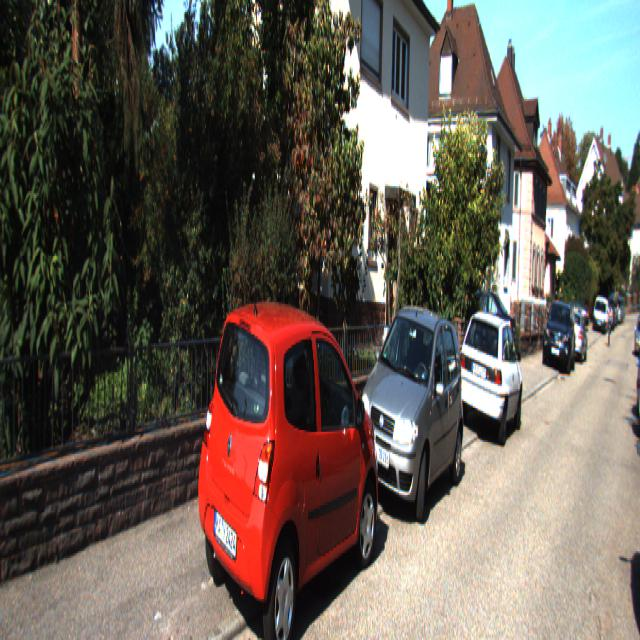Car: (198, 296, 384, 638), (354, 298, 468, 537), (457, 309, 525, 447), (540, 300, 579, 374), (636, 325, 639, 443)
